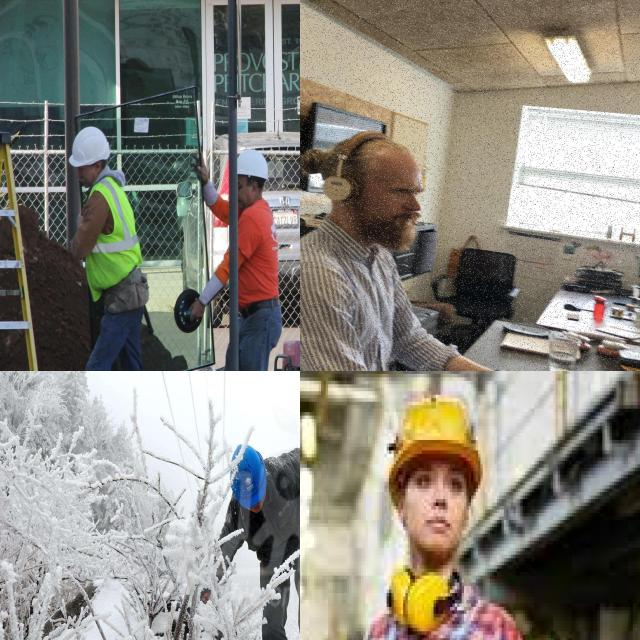Ear-protection: (306, 119, 433, 252), (380, 554, 448, 634)
face_nomask: (226, 174, 258, 215), (74, 161, 98, 188)
hand_noglove: (186, 143, 211, 185), (187, 296, 206, 332)
head_helmet: (370, 374, 494, 485), (68, 124, 111, 167), (236, 146, 270, 179)
person: (319, 371, 547, 640), (52, 120, 174, 371), (188, 146, 288, 371)
vest: (79, 179, 142, 295)
